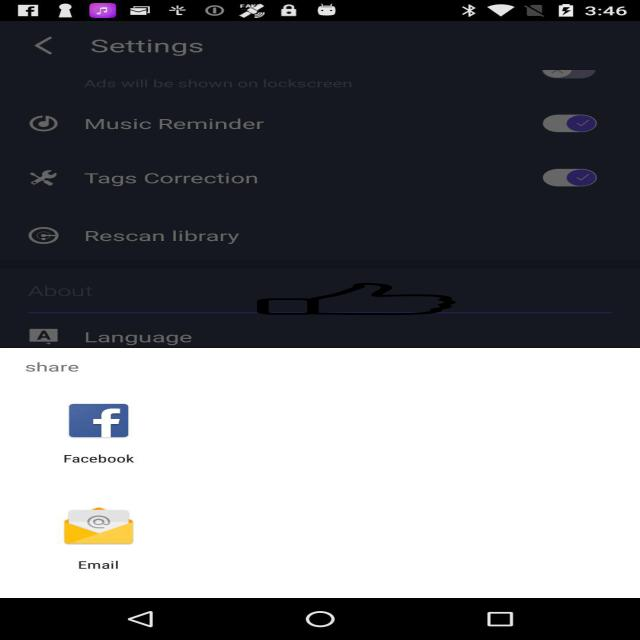privacy zuckering: (254, 283, 459, 315)
